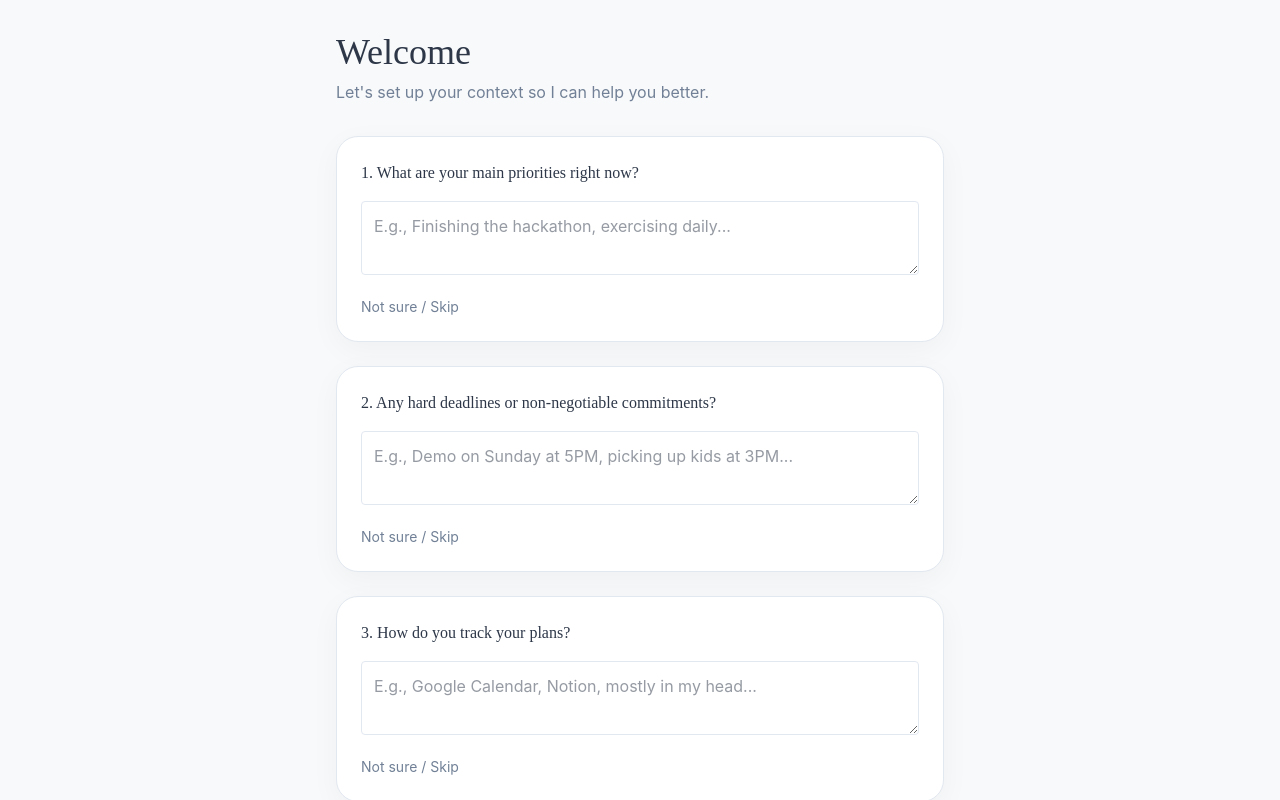
Test: HomePage › submits only answered fields and reloads
Expected: the heading "1. What are your main priorities right now?" is shown, top-left (361, 164), bottom-right (639, 181)
Step 1. Type "Sleep" into the text box with placeholder "E.g., Finishing the hackathon, exercising daily..." → (640, 238), box top-left (361, 201), bottom-right (919, 275)
(page scrolled)
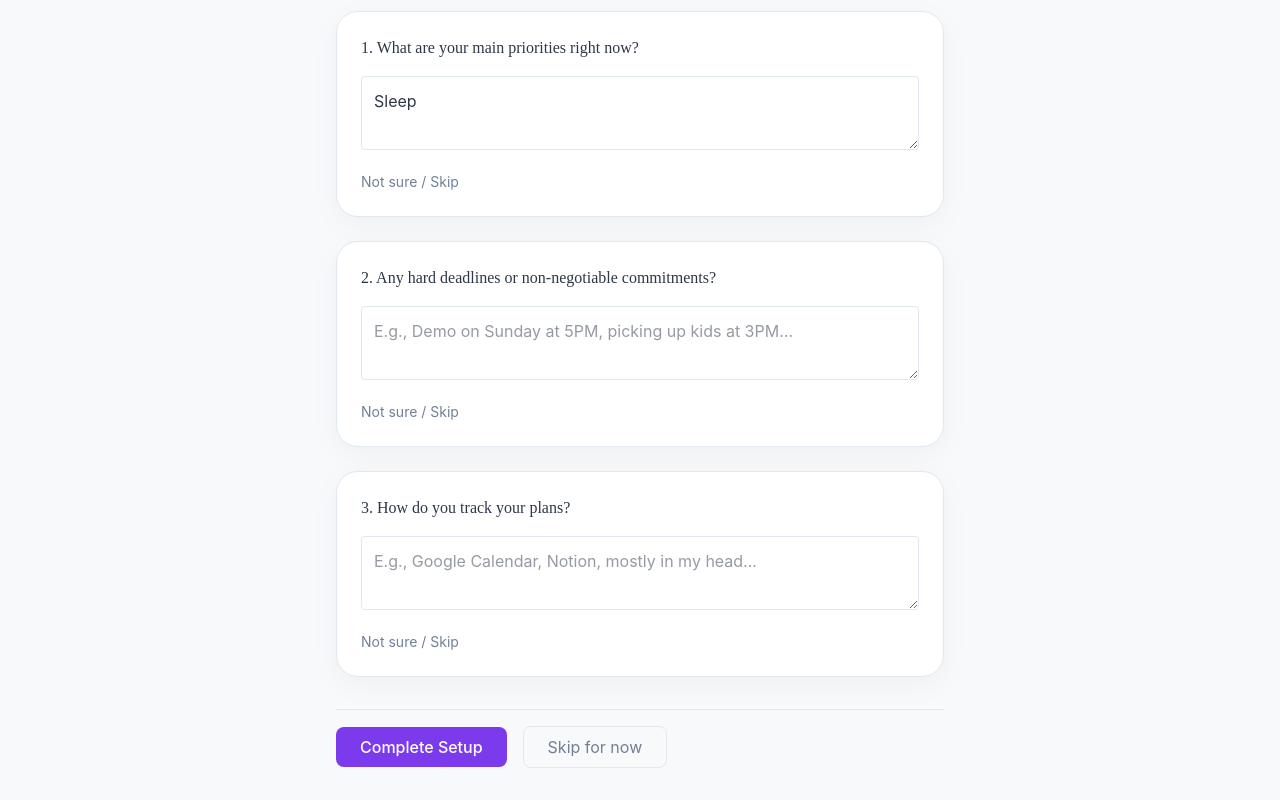
Step 2. Click the button "Complete Setup" → (421, 747), box top-left (336, 727), bottom-right (507, 767)
(page scrolled)
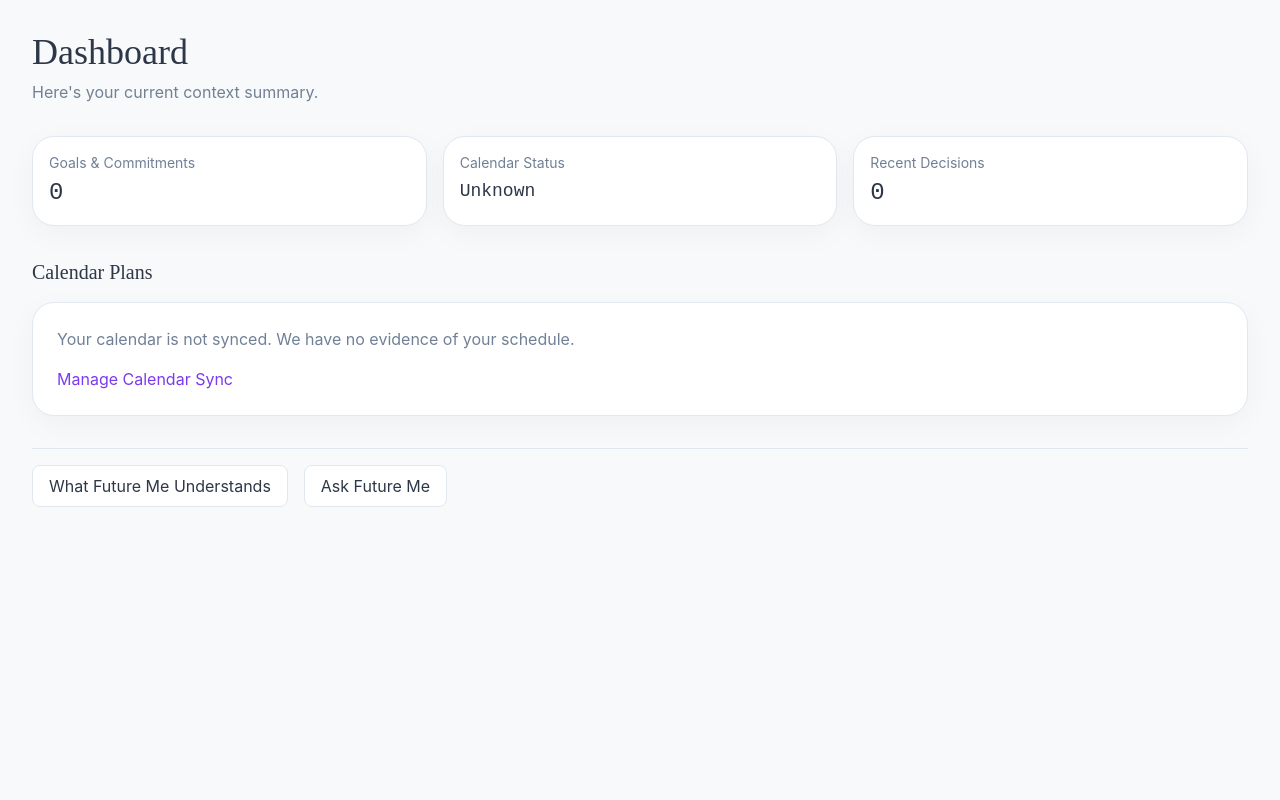
Now the heading "Dashboard" is shown, box top-left (32, 32), bottom-right (188, 72)
